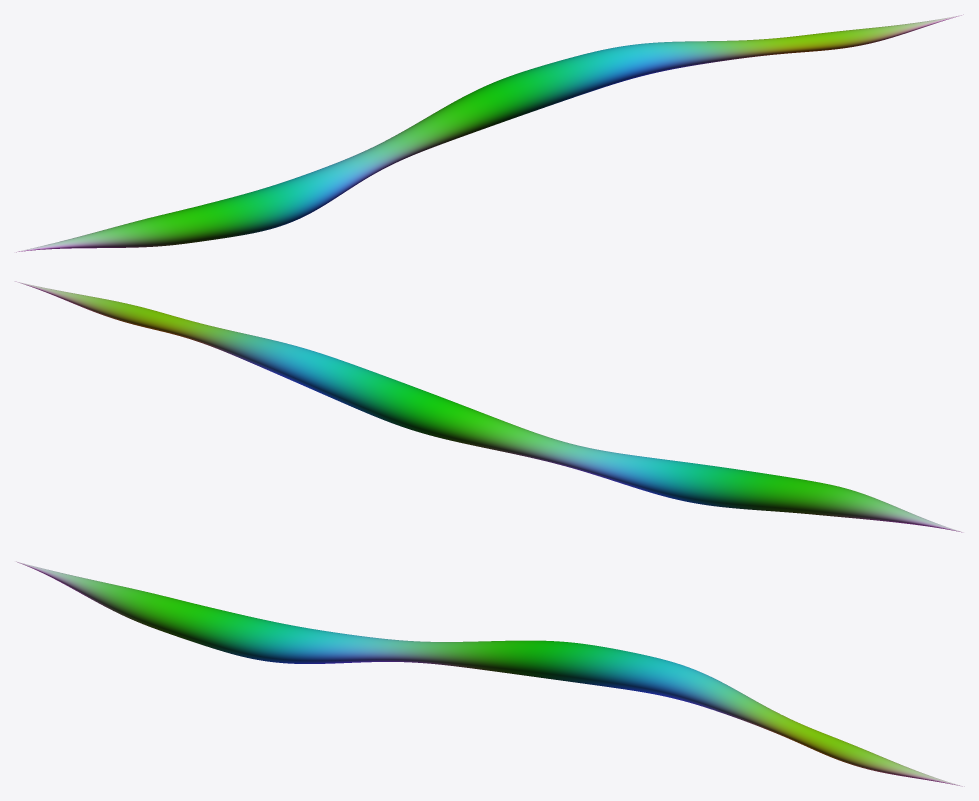
Rendered from env_sky_cloudband_b.fbx.
The picture shows the model from 3 angles, top to bottom: view 1: azimuth 30°, elevation 25°; view 2: azimuth 150°, elevation 25°; view 3: azimuth 330°, elevation 25°; orthographic projection.
Visible parts, largest first — view 1: env_sky_cloudband_b; view 2: env_sky_cloudband_b; view 3: env_sky_cloudband_b.
Boxes of the visible parts, x1,y1,x2,y2 form: env_sky_cloudband_b: (15, 14, 963, 252); env_sky_cloudband_b: (15, 281, 963, 532); env_sky_cloudband_b: (15, 561, 964, 786).
Size of the model in its own units: 40 by 2.69 by 4.14.
